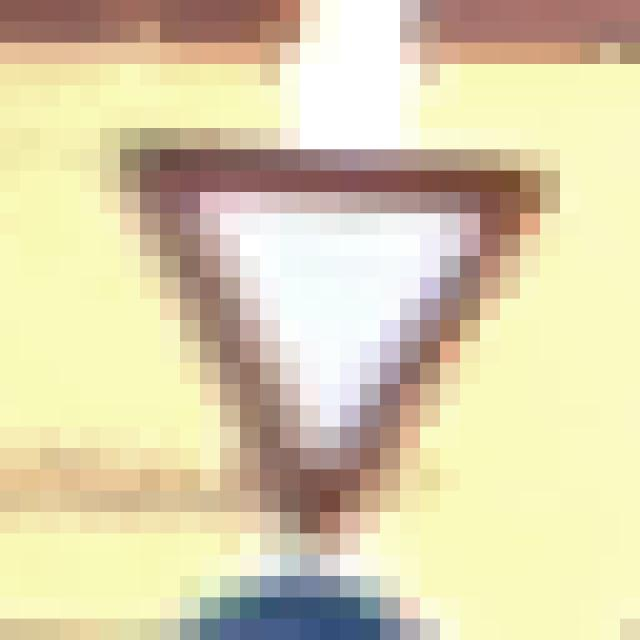Give Way: (101, 108, 541, 534)
